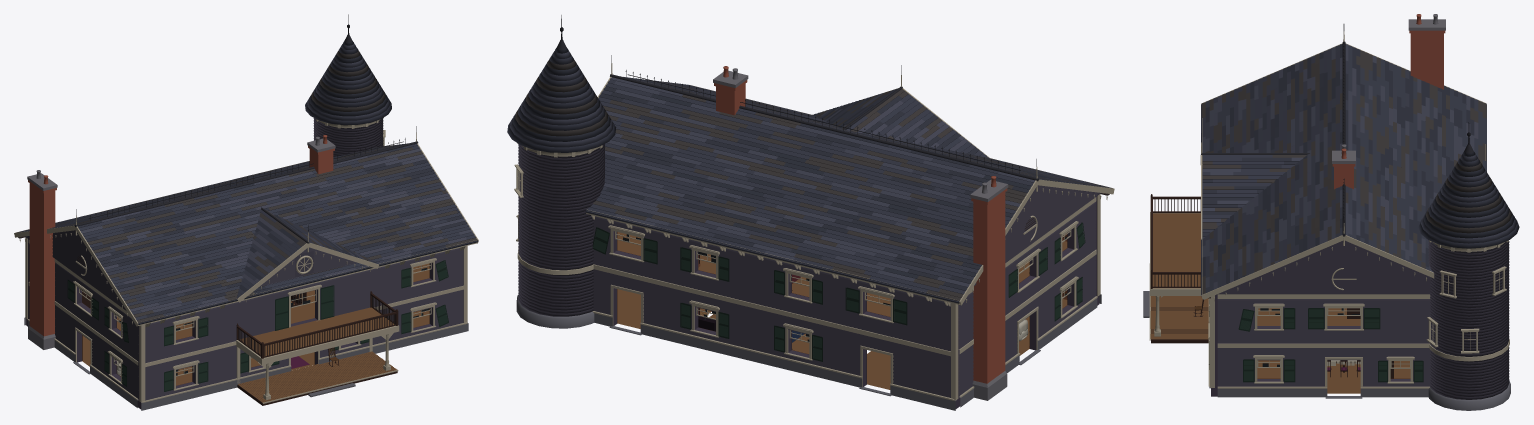
File: hg-manor.glb
The picture shows the model from 3 angles, left to right: view 1: azimuth 30°, elevation 25°; view 2: azimuth 150°, elevation 25°; view 3: azimuth 270°, elevation 25°; orthographic projection. The views are drawn at different scales.
Parts seen in each view (by area): view 1: hg-manor; view 2: hg-manor; view 3: hg-manor.
Boxes of the visible parts, x1,y1,x2,y2 form: hg-manor: [14, 14, 478, 410]; hg-manor: [507, 15, 1114, 410]; hg-manor: [1143, 14, 1519, 410].
Size of the model in its own units: 29.56 by 18.1 by 22.59.
